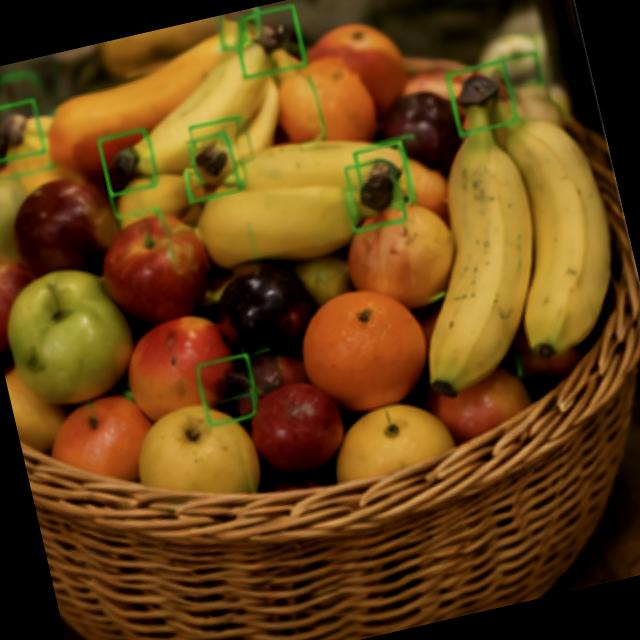Fruit-Stem-Detection: (444, 55, 529, 135), (342, 146, 417, 232), (240, 2, 310, 88), (178, 131, 240, 206), (0, 92, 56, 173), (98, 129, 160, 196), (344, 298, 396, 354), (22, 277, 80, 327), (130, 217, 172, 266), (76, 400, 112, 454)
